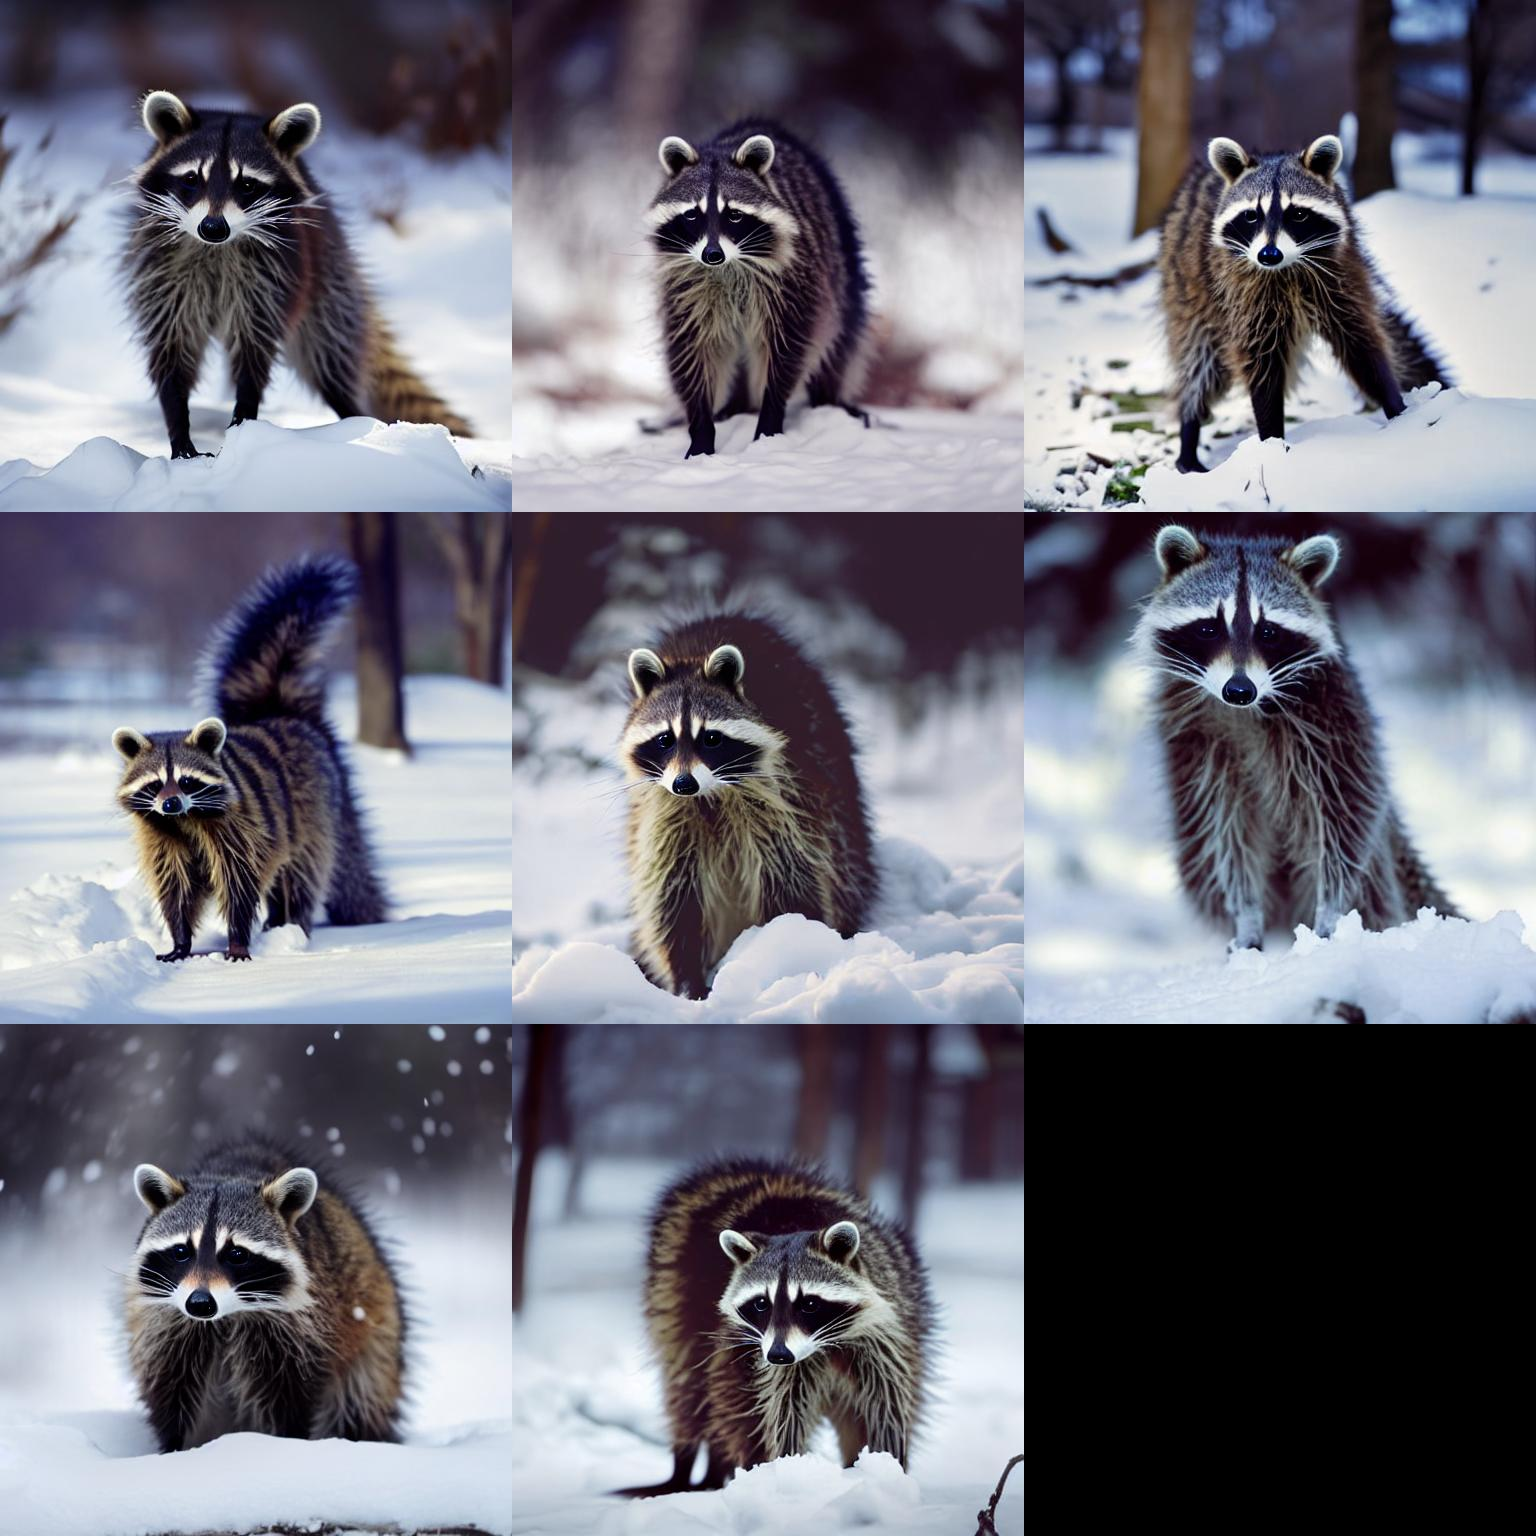raccoon: (1100, 518, 1473, 926), (100, 75, 467, 425), (96, 535, 408, 920), (620, 1125, 958, 1470), (90, 1120, 430, 1445), (592, 589, 897, 942), (1138, 118, 1463, 399), (630, 103, 893, 399)
